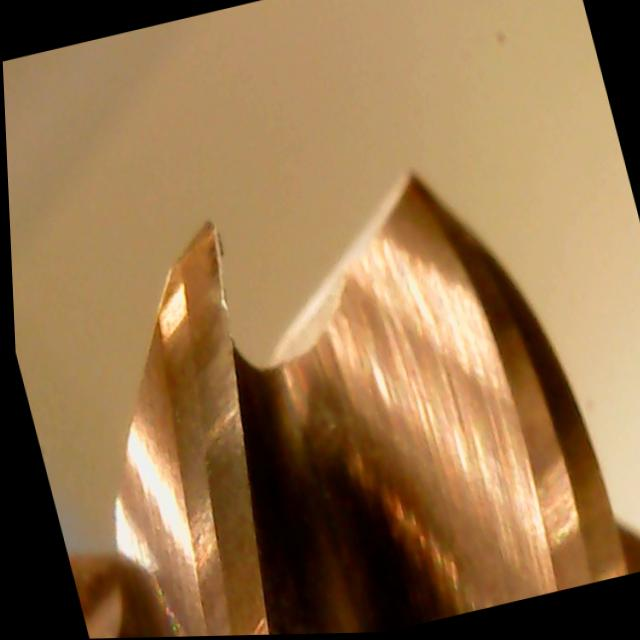Tool-wear-class-0: (125, 209, 288, 500)
